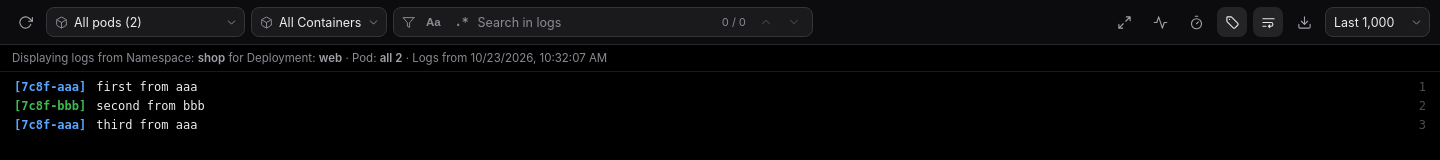
LogsViewer — workload mode (a Deployment's pods) › picking one replica reads only that pod
Expected: the text "third from aaa" is shown, [96,118,198,132]
Step 1. Select "web-7c8f-bbb (Pending)" in the 1st dropdown named "Pod" → {"x": 155, "y": 22}, box [74,8,236,36]
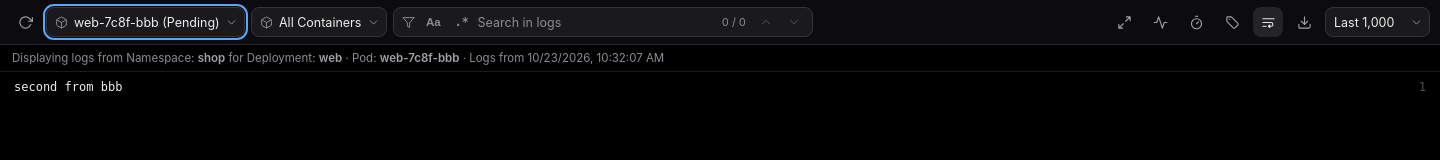
Expected: the text "second from bbb" is shown, [14,80,122,94]
Now the text "third from aaa" is gone
Now the text "Pod: web-7c8f-bbb" is shown, box [0,45,1439,72]
